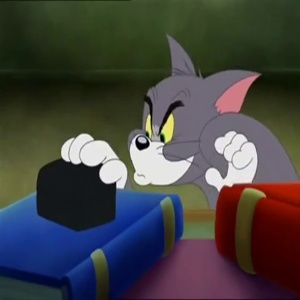Tom: (113, 35, 261, 188)
